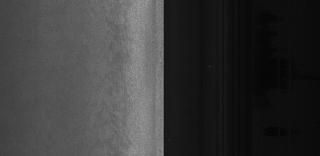silk spot: (98, 23, 144, 113)
